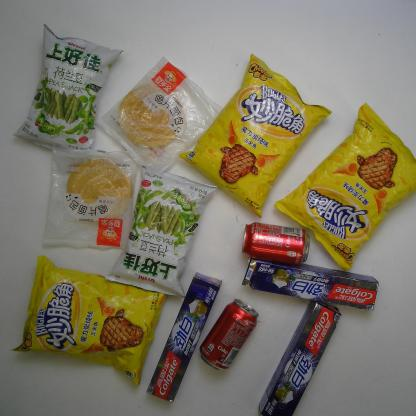Dessert: (95, 56, 221, 180), (40, 139, 140, 253)
Drink: (198, 297, 260, 372), (239, 222, 313, 266)
Personal Hygiene: (146, 271, 224, 404), (258, 298, 342, 416), (237, 255, 381, 312)
Puffed Food: (178, 53, 334, 219), (274, 101, 416, 274), (10, 255, 168, 388), (103, 160, 220, 300), (12, 23, 125, 162)
